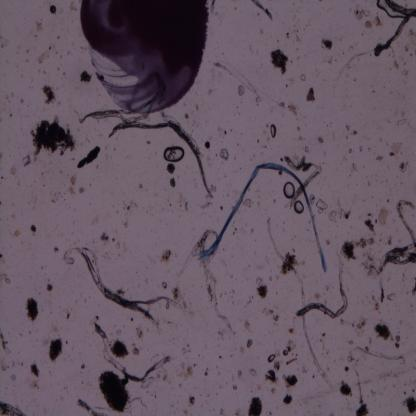Air bubble: (93, 323, 172, 382), (162, 146, 186, 162), (283, 182, 295, 197), (294, 200, 305, 215), (267, 352, 276, 364), (270, 124, 277, 139)
Background material: (214, 61, 286, 114), (97, 368, 132, 413), (337, 47, 374, 78), (74, 145, 102, 172), (354, 7, 380, 35), (341, 238, 374, 259), (267, 46, 290, 76), (22, 296, 42, 324), (108, 337, 130, 361), (360, 253, 379, 279), (67, 171, 86, 196), (356, 381, 369, 415), (48, 336, 65, 362), (174, 361, 194, 383), (372, 322, 392, 343), (308, 194, 328, 215), (41, 83, 57, 108), (267, 360, 281, 387), (329, 207, 351, 224), (247, 394, 264, 415), (255, 274, 268, 300), (46, 188, 67, 204), (0, 331, 12, 358), (338, 378, 354, 398), (378, 368, 404, 380), (400, 395, 416, 414), (364, 212, 377, 235), (122, 196, 138, 214), (368, 292, 381, 314), (159, 246, 172, 267), (354, 317, 367, 338), (281, 373, 298, 389), (176, 192, 189, 212), (29, 360, 42, 380), (110, 235, 126, 251), (282, 338, 296, 356), (79, 69, 93, 86), (388, 140, 402, 157), (199, 199, 214, 214), (304, 87, 317, 104), (142, 373, 156, 388), (378, 207, 389, 226), (36, 51, 50, 65), (134, 324, 146, 340), (33, 18, 46, 32), (299, 360, 312, 374), (49, 319, 61, 334), (218, 148, 230, 163), (132, 396, 148, 407), (21, 154, 32, 170), (221, 289, 237, 300), (216, 123, 227, 139), (282, 392, 294, 406), (408, 276, 416, 297), (0, 270, 11, 285), (284, 356, 299, 367), (244, 294, 255, 309), (318, 329, 329, 344), (293, 26, 302, 44), (209, 0, 219, 16), (268, 307, 278, 323), (26, 376, 39, 388), (98, 231, 111, 243), (320, 39, 334, 50), (233, 218, 242, 235), (208, 68, 218, 83), (350, 162, 360, 176), (166, 161, 176, 175), (0, 357, 10, 371), (393, 336, 403, 350), (0, 33, 9, 48), (396, 116, 407, 128), (312, 288, 323, 300), (287, 106, 298, 118), (387, 290, 398, 302), (40, 335, 52, 346), (340, 317, 353, 327), (236, 84, 246, 97), (247, 46, 260, 56), (248, 366, 258, 379), (187, 393, 196, 407), (181, 342, 192, 353), (92, 215, 102, 227), (160, 280, 170, 292), (315, 134, 325, 146), (168, 177, 177, 190), (288, 76, 298, 87), (115, 286, 127, 295), (397, 162, 406, 174), (29, 223, 38, 235), (264, 129, 272, 142), (243, 198, 253, 208), (103, 252, 113, 262), (9, 210, 18, 221), (386, 235, 393, 249), (345, 352, 352, 366), (236, 369, 244, 381), (257, 381, 265, 393), (246, 337, 254, 349), (216, 327, 224, 339), (243, 320, 251, 332), (263, 252, 270, 265), (46, 282, 53, 295), (348, 42, 357, 52), (122, 219, 132, 228), (70, 0, 78, 11), (132, 345, 140, 356), (400, 270, 406, 284), (289, 324, 296, 336), (392, 60, 399, 72), (203, 141, 212, 150), (388, 48, 396, 58), (14, 228, 21, 239), (181, 407, 189, 416), (51, 246, 60, 254), (63, 382, 69, 394), (300, 73, 307, 83), (11, 166, 18, 176), (0, 252, 6, 263), (210, 183, 216, 194), (137, 183, 145, 191), (302, 144, 310, 152), (144, 138, 152, 146), (401, 69, 409, 77), (195, 104, 202, 113), (8, 375, 17, 382), (370, 388, 377, 397), (208, 87, 214, 97), (325, 236, 331, 246), (350, 129, 358, 136), (344, 366, 351, 374), (291, 12, 298, 20), (376, 154, 384, 161), (113, 330, 122, 336), (256, 188, 262, 197), (26, 46, 32, 55), (204, 368, 209, 378), (84, 138, 91, 145), (238, 346, 244, 354), (192, 181, 198, 189), (184, 113, 190, 121), (326, 122, 334, 128), (232, 384, 238, 392), (79, 362, 85, 370), (385, 118, 393, 124), (328, 56, 334, 64), (235, 407, 240, 416), (297, 135, 306, 140), (104, 153, 109, 162), (272, 198, 278, 205), (54, 49, 61, 55), (10, 90, 16, 97), (296, 124, 301, 132), (11, 358, 16, 366), (404, 45, 409, 53), (219, 204, 224, 212), (66, 310, 70, 320), (271, 386, 276, 394), (285, 33, 291, 39), (348, 340, 354, 346), (26, 329, 32, 335), (6, 93, 10, 102), (322, 151, 328, 157), (19, 331, 24, 338), (345, 124, 350, 131), (367, 146, 371, 154), (367, 178, 371, 186), (385, 196, 389, 204), (260, 146, 268, 150), (0, 152, 4, 160), (250, 226, 254, 234), (94, 316, 100, 321), (401, 112, 406, 118), (221, 258, 226, 264), (352, 76, 357, 82), (344, 135, 350, 140), (146, 390, 151, 396), (296, 56, 301, 62), (217, 355, 223, 360), (348, 147, 352, 154), (326, 284, 330, 291), (130, 315, 134, 322), (154, 391, 158, 398), (220, 407, 224, 414), (229, 353, 234, 358), (20, 362, 25, 367), (56, 34, 60, 40), (280, 156, 284, 162), (0, 174, 4, 180), (412, 387, 416, 393), (256, 204, 260, 210), (260, 30, 264, 36), (32, 34, 38, 38), (9, 112, 13, 118), (83, 298, 87, 304), (56, 65, 60, 71), (409, 52, 413, 58), (60, 54, 64, 60), (40, 266, 45, 270), (66, 51, 70, 56), (21, 99, 25, 104), (228, 128, 233, 132), (48, 45, 52, 50), (276, 39, 280, 44), (269, 276, 272, 282), (359, 146, 362, 152), (257, 138, 260, 144), (113, 145, 116, 151), (284, 84, 288, 88), (62, 72, 66, 76), (239, 132, 243, 136), (372, 90, 376, 94), (40, 171, 44, 175), (234, 156, 238, 160), (404, 62, 408, 66), (235, 104, 238, 109), (267, 125, 270, 130), (42, 182, 45, 187), (290, 59, 293, 64), (234, 7, 237, 11), (403, 391, 407, 394), (319, 0, 323, 3), (372, 195, 375, 199), (218, 373, 222, 376), (198, 353, 201, 357), (171, 404, 174, 408), (66, 340, 68, 345), (400, 182, 403, 185), (312, 376, 316, 378), (293, 3, 295, 6)
Cellulose filter fibre: (266, 220, 330, 387), (62, 243, 186, 313), (108, 121, 213, 201), (180, 227, 236, 330), (378, 197, 416, 305), (294, 254, 348, 321), (374, 0, 416, 60), (284, 157, 321, 210), (76, 110, 152, 126), (352, 345, 404, 363), (77, 400, 106, 416), (0, 402, 29, 416), (254, 0, 272, 21)
Cotton: (197, 163, 329, 272)
Diatom: (48, 5, 57, 15)
Pen: (80, 0, 209, 114), (29, 113, 77, 161)
